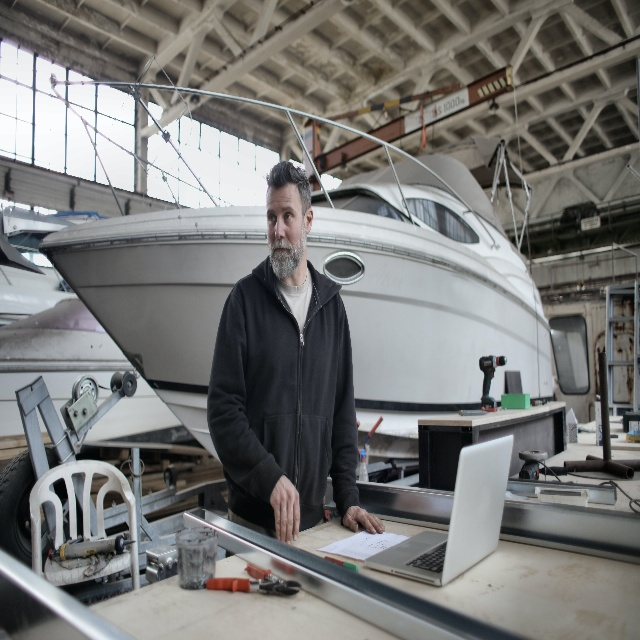Sin_guantes: (269, 474, 300, 546), (343, 505, 386, 535)
